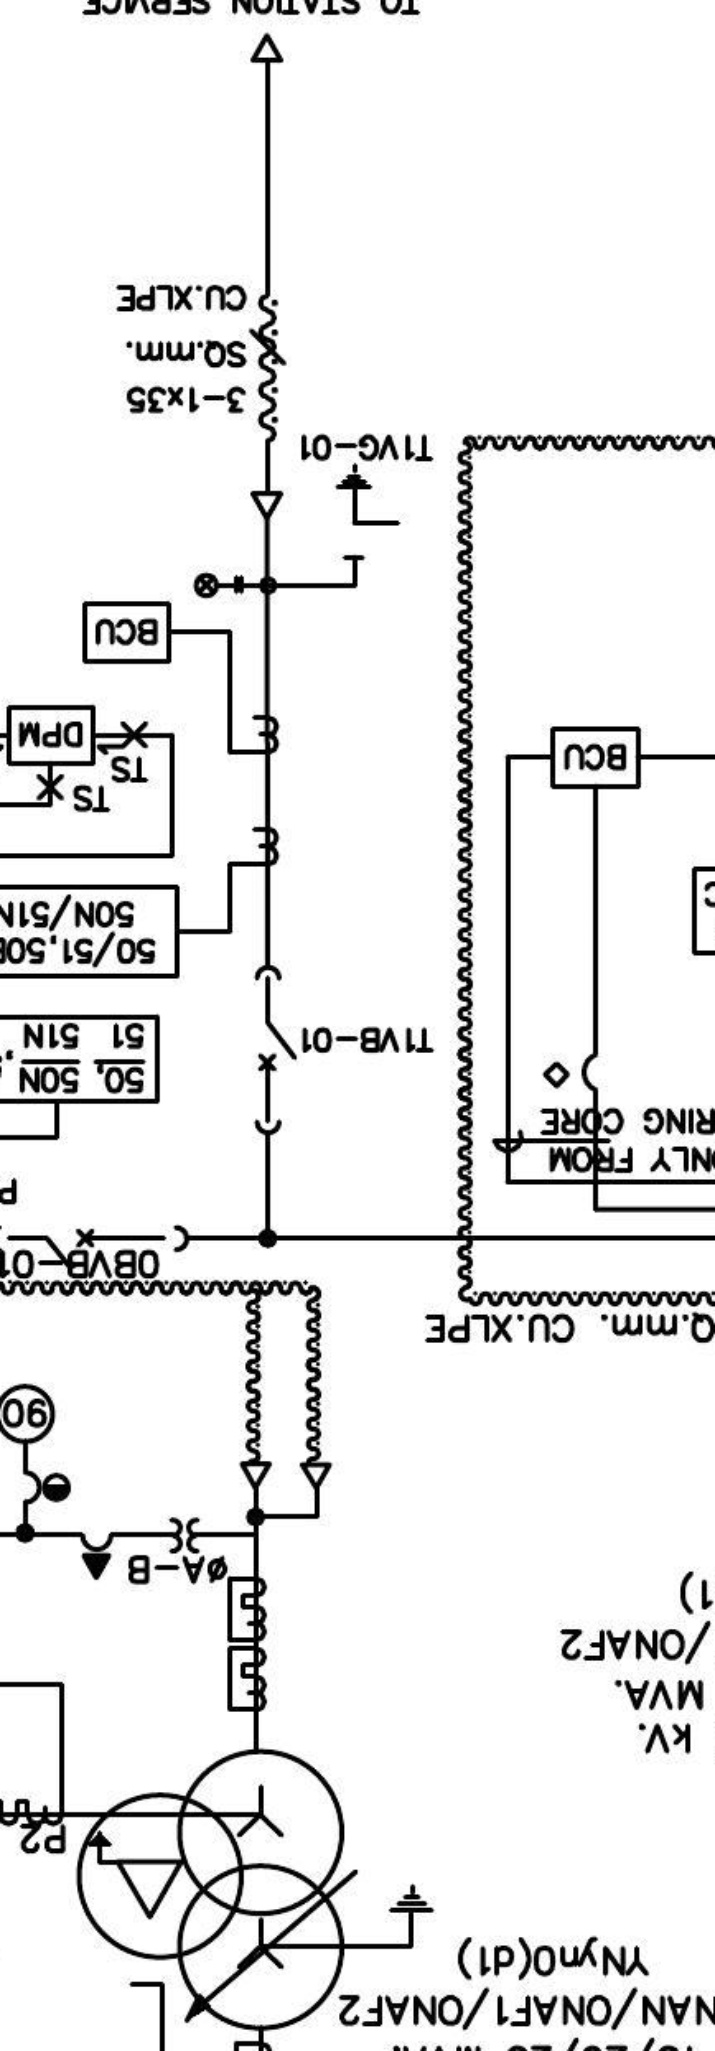11522_tx_ynyn0d1: (75, 1748, 346, 2033)
22_breaker: (254, 964, 298, 1135)
22_gs: (336, 463, 401, 561)
22_ll: (192, 572, 244, 599)
BCU: (81, 599, 173, 666), (549, 725, 642, 790)
DPM: (5, 704, 97, 768)
terminator_double: (238, 1461, 333, 1520)
terminator_single: (250, 489, 285, 521), (250, 33, 285, 64)
